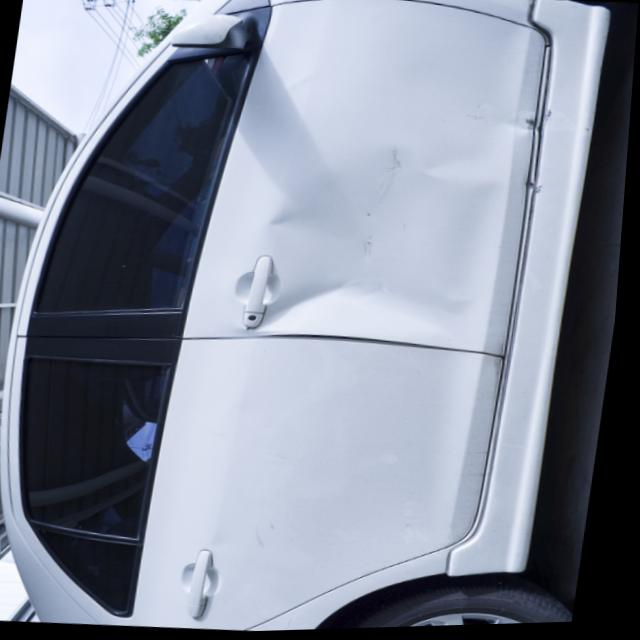Dent: (273, 132, 525, 347)
